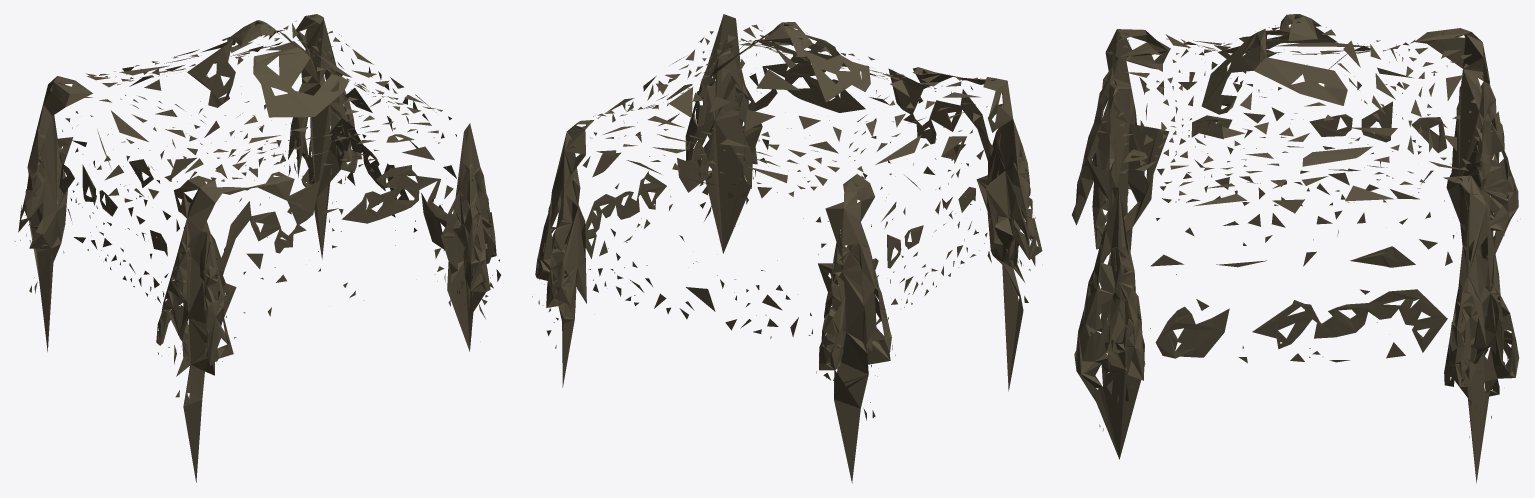
Rendered from camonet.glb.
The picture shows the model from 3 angles, left to right: view 1: azimuth 30°, elevation 25°; view 2: azimuth 150°, elevation 25°; view 3: azimuth 270°, elevation 25°; orthographic projection. The views are drawn at different scales.
Visible parts, largest first — view 1: Mesh_0; view 2: Mesh_0; view 3: Mesh_0.
Part boxes in pixels (x1,y1,x2,y2): Mesh_0: (15,14,500,482); Mesh_0: (532,14,1042,483); Mesh_0: (1072,14,1519,483).
Size of the model in its own units: 3.87 by 4 by 3.68.
